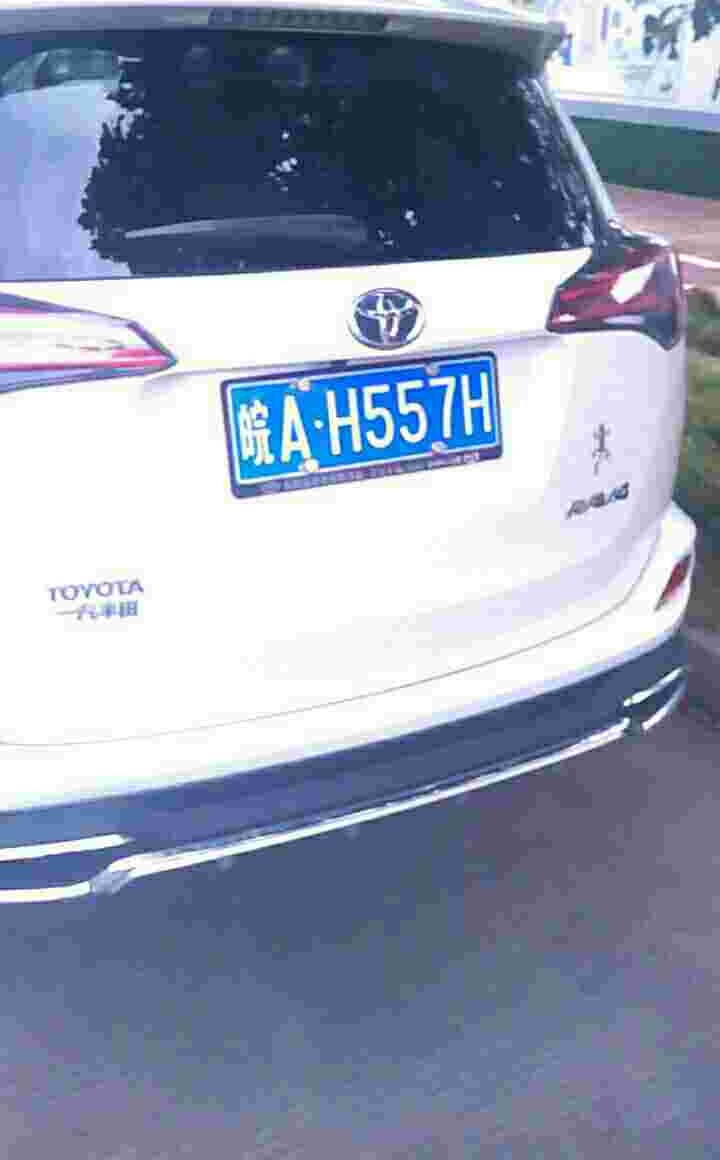license_plate: (232, 351, 505, 484)
